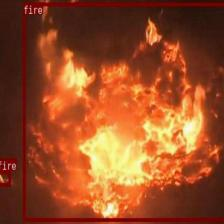fire: (22, 2, 224, 221), (0, 170, 10, 185)
